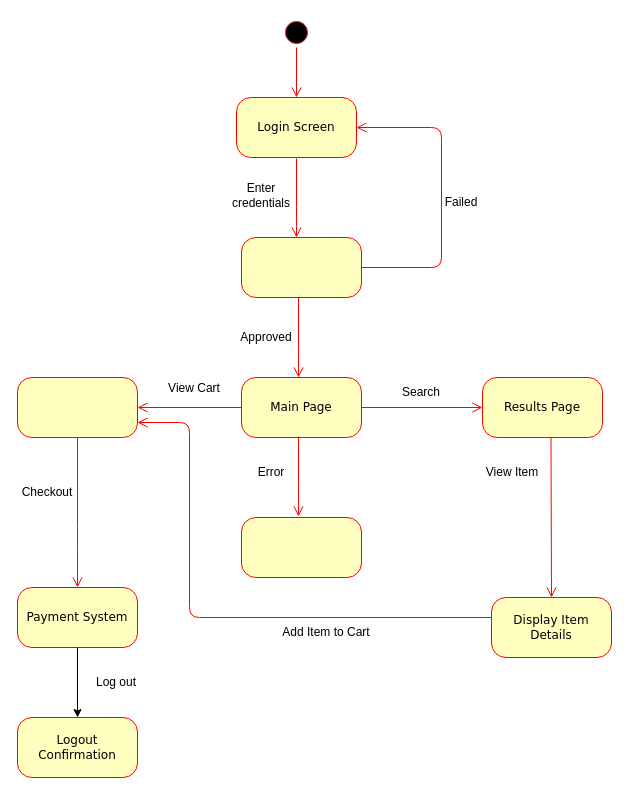
Some shapes in this 629 by 795 pixel diagram are drawn without their labels. The centre of each missing label's shape, as x and y in pixels:
Authentication: (301,267)
Cart Page: (77,407)
Display Error: (301,547)
